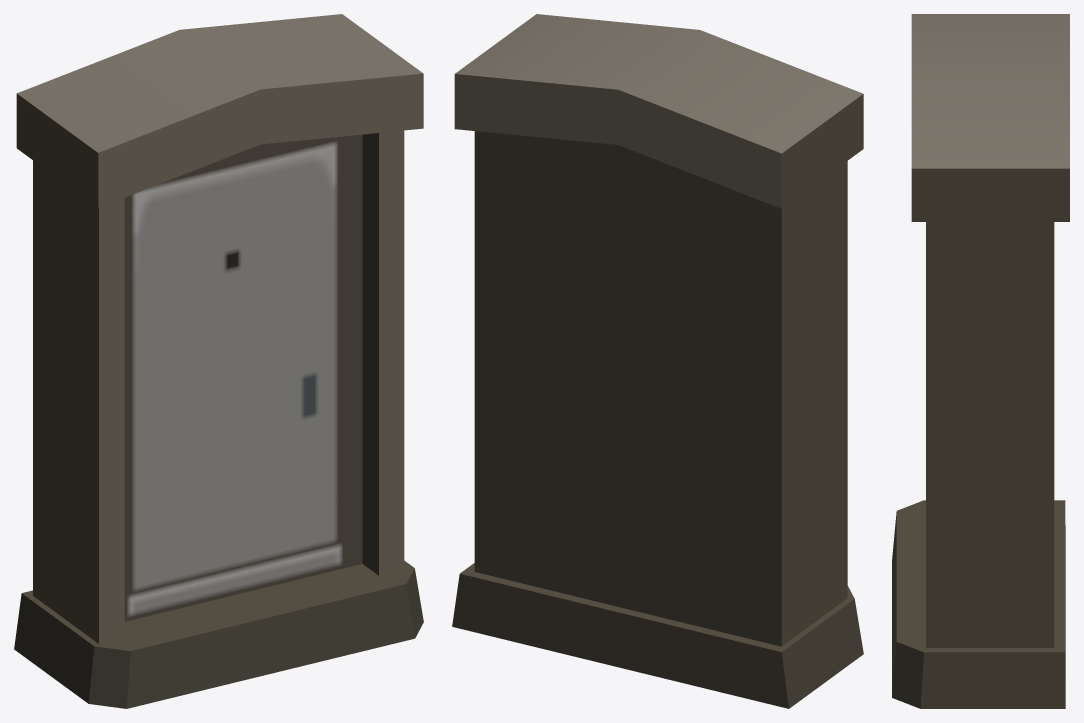
Rendered from Door_C02.fbx.
The picture shows the model from 3 angles, left to right: view 1: azimuth 30°, elevation 25°; view 2: azimuth 150°, elevation 25°; view 3: azimuth 270°, elevation 25°; orthographic projection. The views are drawn at different scales.
Parts seen in each view (by area): view 1: Door_C02; view 2: Door_C02; view 3: Door_C02.
Part boxes in pixels (bbox=[...]): Door_C02: bbox=[14, 14, 423, 708]; Door_C02: bbox=[452, 14, 863, 708]; Door_C02: bbox=[892, 14, 1069, 708].
Bounding box in the file's own units: 220 × 362 × 104.
